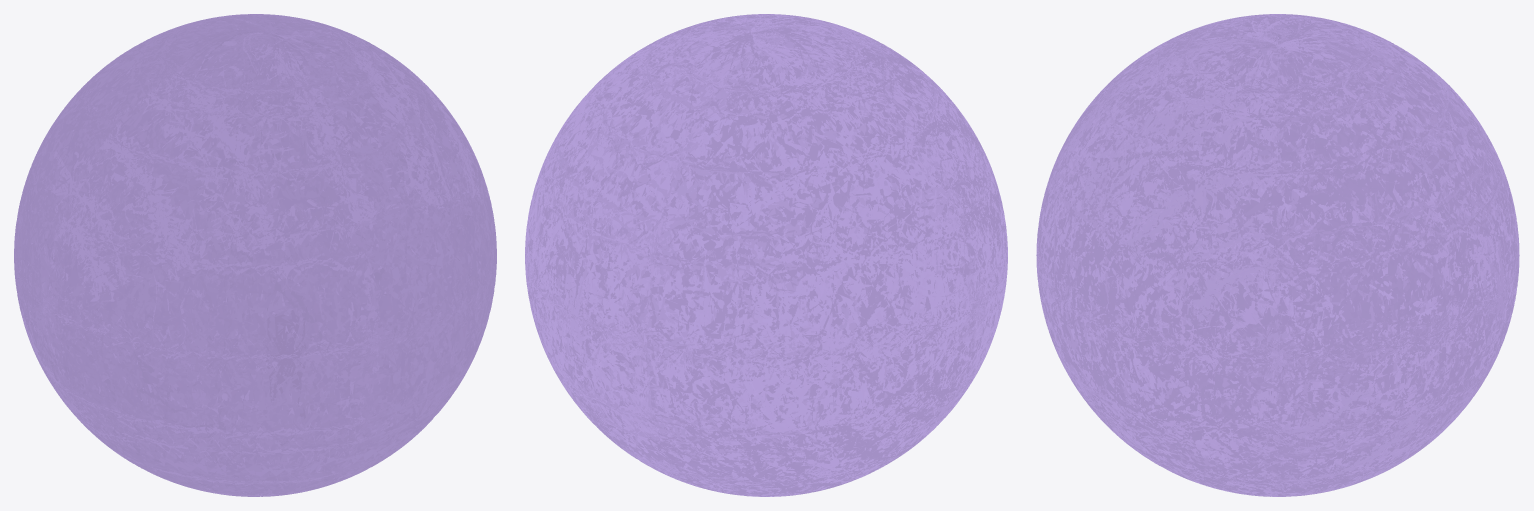
The model's file is flood-5.glb.
3 renders of one model, left to right at view 1: azimuth 30°, elevation 25°; view 2: azimuth 150°, elevation 25°; view 3: azimuth 270°, elevation 25°, orthographic.
Parts seen in each view (by area): view 1: flooding; view 2: flooding; view 3: flooding.
Part boxes in pixels (x1,y1,x2,y2): flooding: (14,14,496,496); flooding: (525,14,1007,496); flooding: (1036,14,1519,496).
Size of the model in its own units: 2 by 2 by 2.
